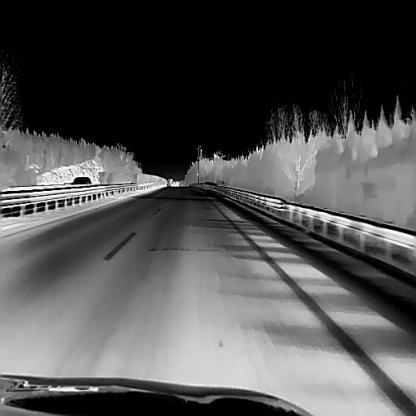car: (70, 175, 91, 183)
